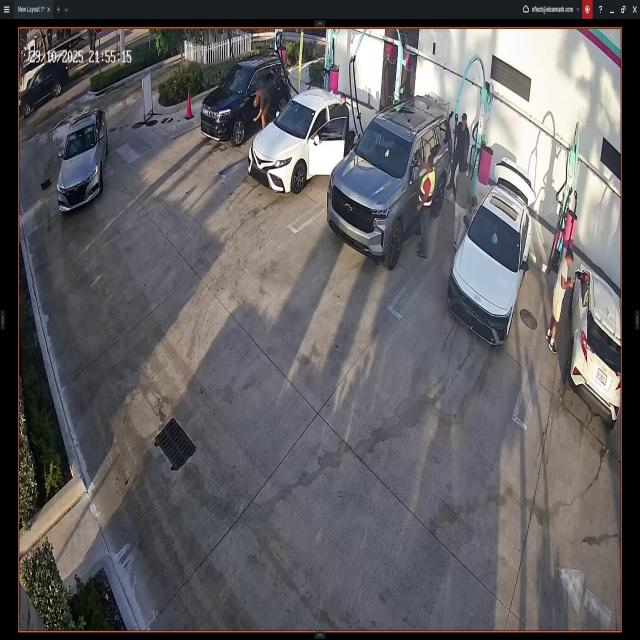Car: (331, 98, 450, 268), (449, 160, 527, 348), (250, 92, 358, 190), (572, 272, 622, 422), (201, 52, 287, 134), (63, 106, 107, 212)
